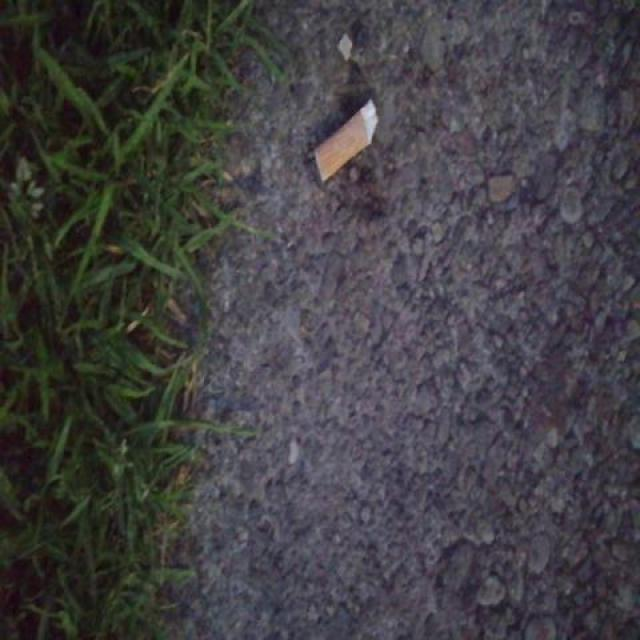non-organic waste: (310, 95, 382, 186)
